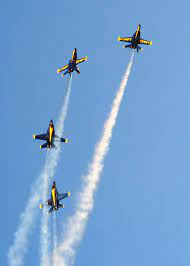plane: (32, 117, 67, 149), (39, 180, 70, 213), (117, 23, 152, 51), (57, 48, 88, 79)
